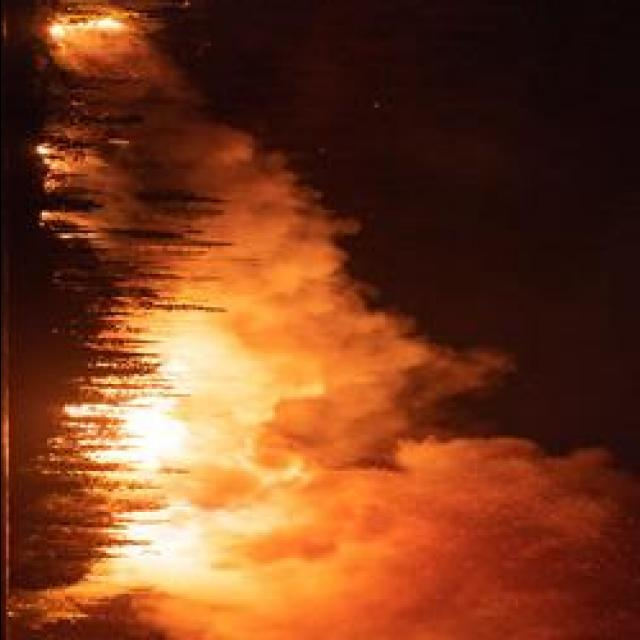fire: (121, 408, 186, 466), (134, 518, 200, 570)
smoke: (236, 436, 634, 638), (210, 286, 403, 420), (188, 169, 362, 306), (99, 572, 277, 638)
